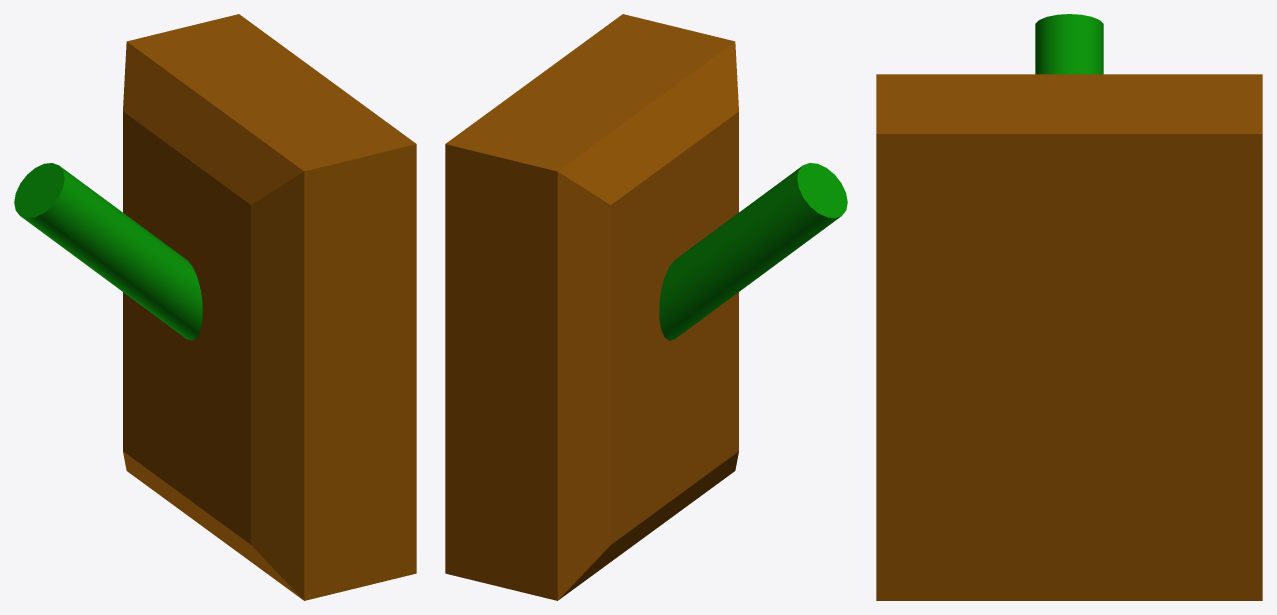
File: switch.FBX
3 views of the same model, side by side, from view 1: azimuth 30°, elevation 25°; view 2: azimuth 150°, elevation 25°; view 3: azimuth 270°, elevation 25° (orthographic). The views are drawn at different scales.
Visible parts, largest first — view 1: body, lever; view 2: body, lever; view 3: body, lever.
Boxes of the visible parts, x1=… form: body: x1=123, y1=14, x2=416, y2=600; lever: x1=14, y1=163, x2=202, y2=340; body: x1=445, y1=14, x2=738, y2=600; lever: x1=659, y1=163, x2=847, y2=340; body: x1=876, y1=74, x2=1262, y2=600; lever: x1=1035, y1=14, x2=1103, y2=74.
Size of the model in its own units: 23.64 by 31.5 by 23.62.
